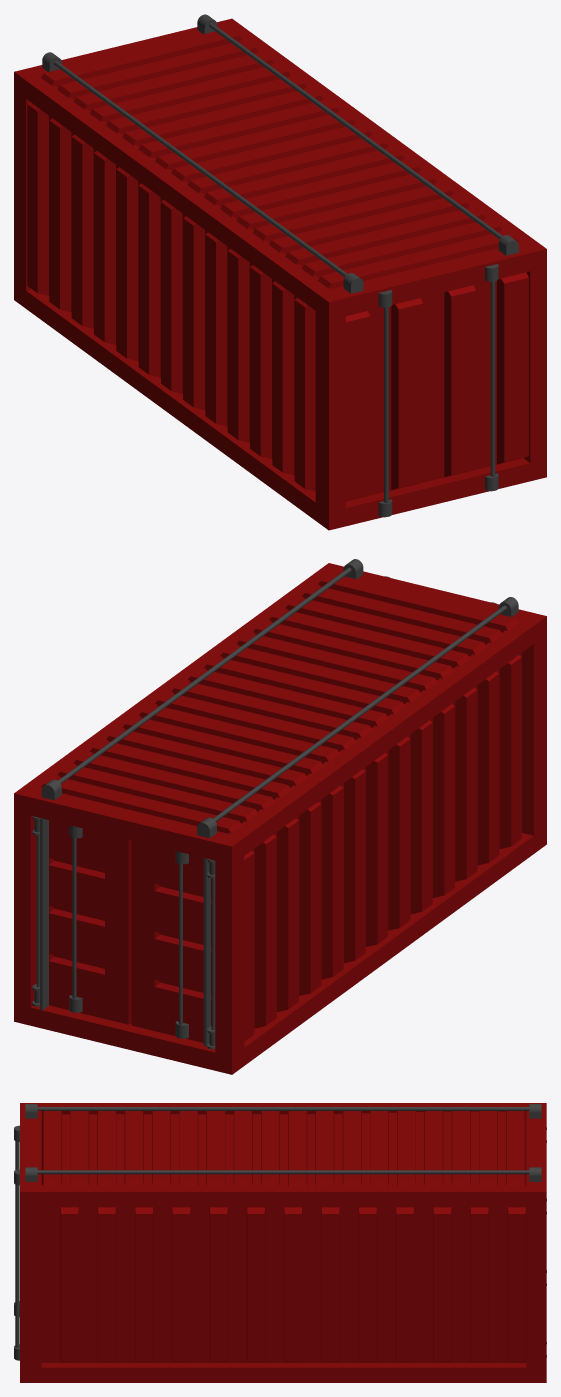
File: ContainerMerah.obj
3 views of the same model, one above another, from view 1: azimuth 30°, elevation 25°; view 2: azimuth 150°, elevation 25°; view 3: azimuth 270°, elevation 25° (orthographic). The views are drawn at different scales.
Parts seen in each view (by area): view 1: ContainerMerah; view 2: ContainerMerah; view 3: ContainerMerah.
Part boxes in pixels (x1=…): ContainerMerah: x1=14, y1=14, x2=546, y2=530; ContainerMerah: x1=14, y1=559, x2=546, y2=1074; ContainerMerah: x1=14, y1=1103, x2=546, y2=1382.
Bounding box in the file's own units: 6.04 × 6.4 × 15.28.
